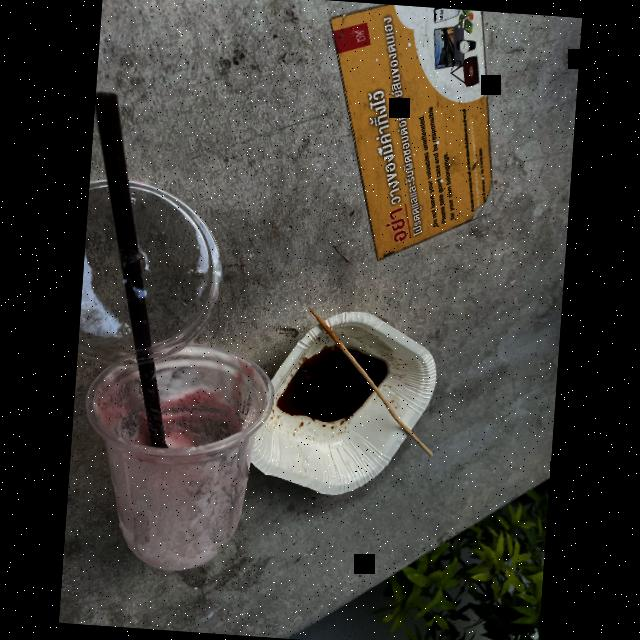cardboard_bowl: (247, 302, 448, 506)
plastic_cup: (72, 336, 280, 580)
plastic_cup_lid: (76, 168, 230, 376)
stick: (296, 306, 452, 456)
straw: (72, 92, 192, 450)
